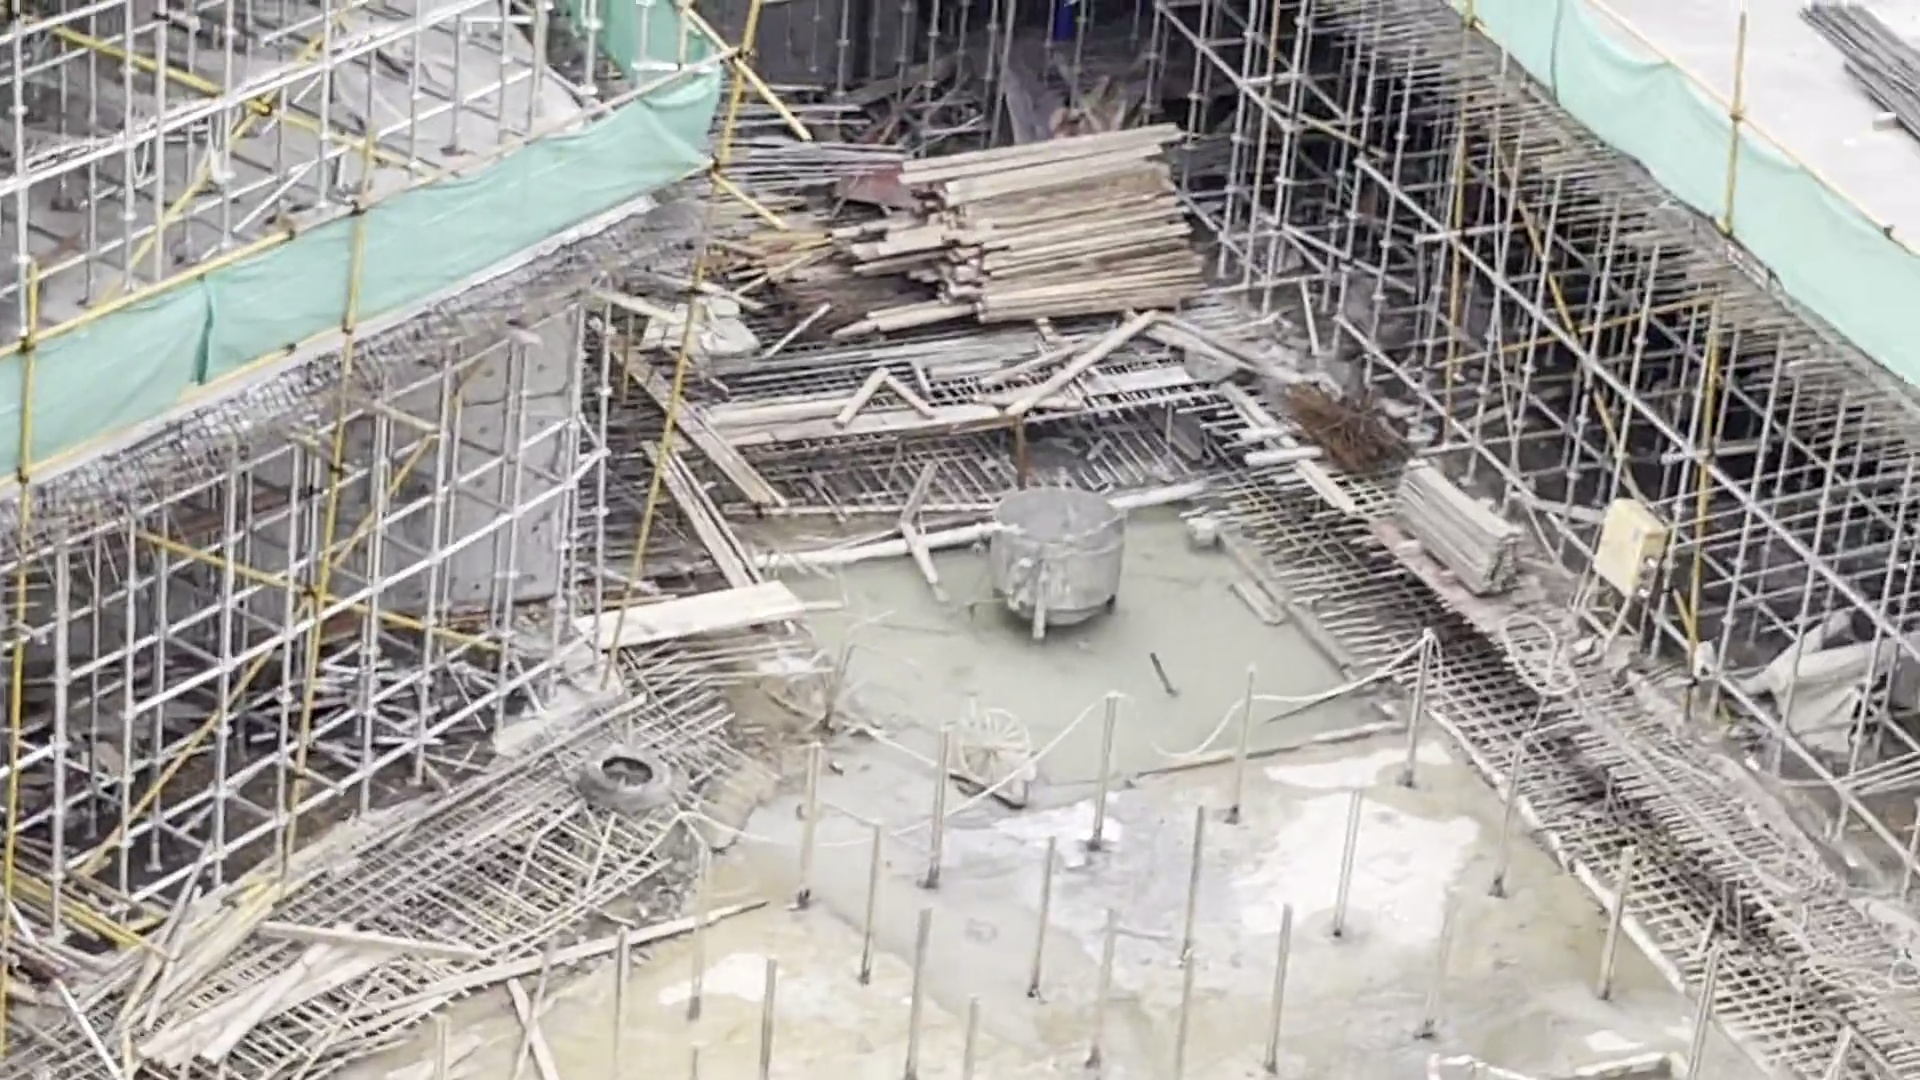wood: (887, 120, 1211, 313)
